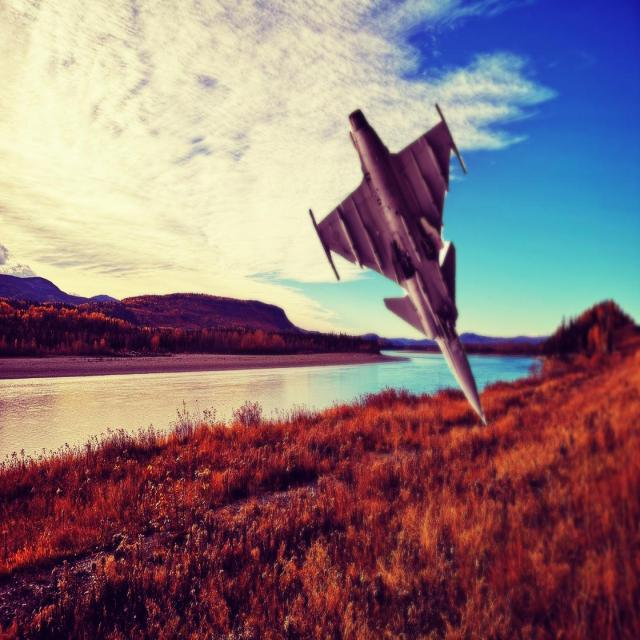airplane: (308, 102, 488, 426)
